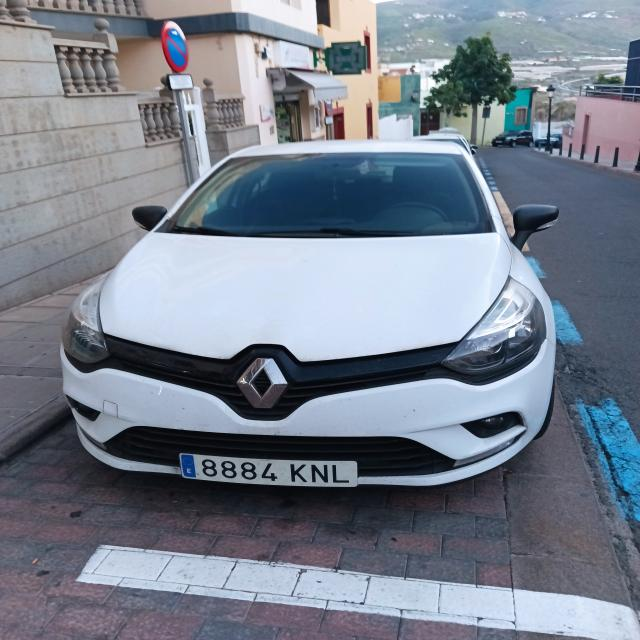football: (182, 453, 358, 487)
